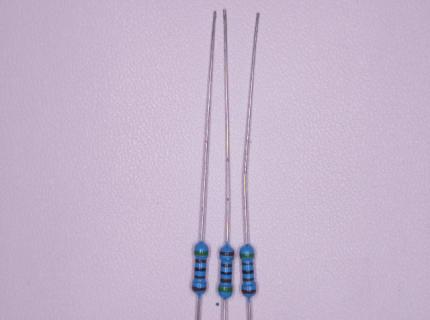Black band: (194, 267, 206, 272), (220, 271, 231, 275), (243, 270, 254, 274)
Brown band: (192, 287, 206, 292), (220, 251, 234, 256), (242, 289, 256, 294), (221, 278, 232, 283), (195, 258, 206, 262), (221, 263, 232, 267), (243, 277, 254, 281), (195, 274, 205, 278), (242, 263, 253, 265)
Green band: (219, 286, 233, 292), (194, 250, 208, 255), (240, 254, 254, 258)
